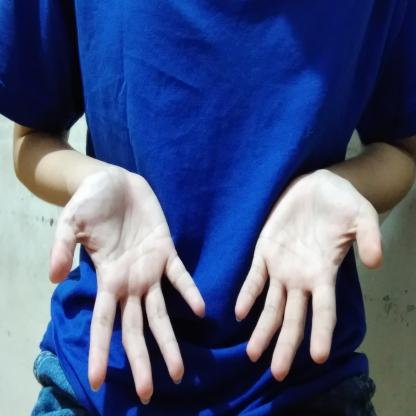what: (43, 156, 396, 408)
